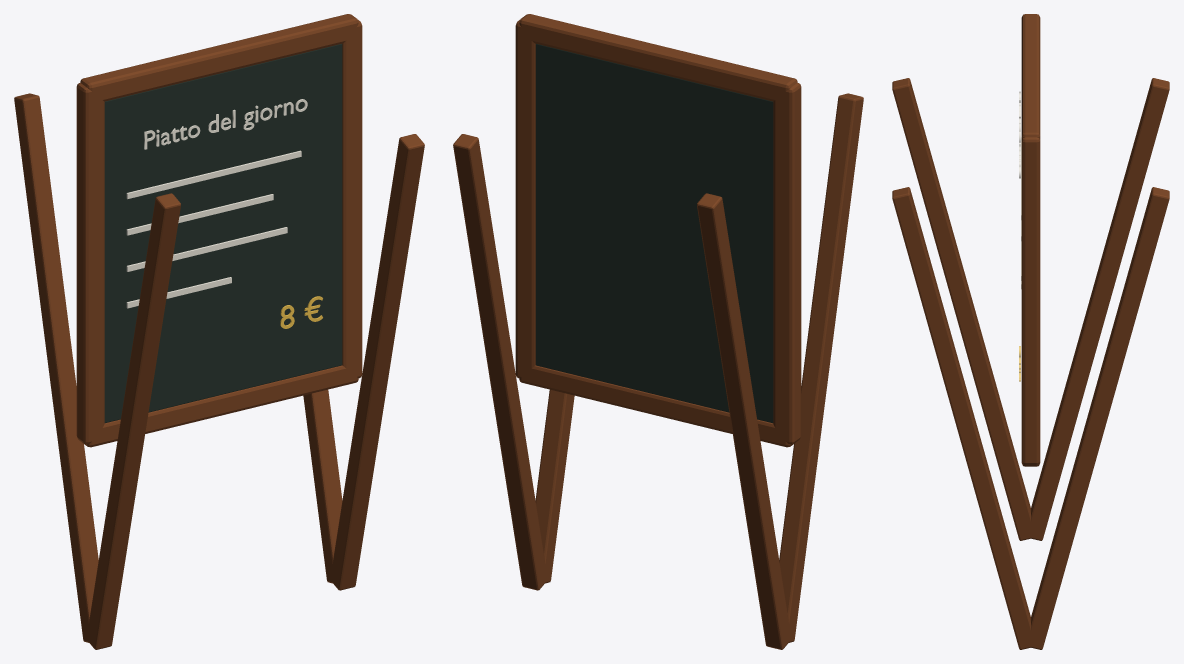
The model's file is lavagna.glb.
The picture shows the model from 3 angles, left to right: view 1: azimuth 30°, elevation 25°; view 2: azimuth 150°, elevation 25°; view 3: azimuth 270°, elevation 25°; orthographic projection. The views are drawn at different scales.
Visible parts, largest first — view 1: Cube, Cube.006, Cube.005, Cube.007, Cube.003, Cube.001, Cube.004, Cube.002, Cube.008, Text, Cube.009, Cube.011 (+1 smaller); view 2: Cube, Cube.005, Cube.006, Cube.008, Cube.003, Cube.001, Cube.004, Cube.002, Cube.007; view 3: Cube.005, Cube.007, Cube.006, Cube.008, Cube.004, Cube.001.
Boxes of the visible parts, <box> form: Cube: <box>104,44,342,423</box>; Cube.006: <box>14,93,98,642</box>; Cube.005: <box>86,193,180,649</box>; Cube.007: <box>332,134,424,590</box>; Cube.003: <box>76,83,104,444</box>; Cube.001: <box>80,14,358,102</box>; Cube.004: <box>342,20,362,378</box>; Cube.002: <box>82,365,358,447</box>; Cube.008: <box>303,389,342,583</box>; Text: <box>144,99,307,149</box>; Cube.009: <box>126,150,301,199</box>; Cube.011: <box>126,227,287,271</box>; Cube: <box>535,44,773,423</box>; Cube.005: <box>779,93,863,642</box>; Cube.006: <box>697,193,791,649</box>; Cube.008: <box>453,134,545,590</box>; Cube.003: <box>773,83,801,444</box>; Cube.001: <box>519,14,797,102</box>; Cube.004: <box>515,20,535,378</box>; Cube.002: <box>519,365,795,447</box>; Cube.007: <box>535,389,574,583</box>; Cube.005: <box>892,78,1034,540</box>; Cube.007: <box>892,187,1034,649</box>; Cube.006: <box>1027,78,1169,540</box>; Cube.008: <box>1027,187,1169,649</box>; Cube.004: <box>1021,137,1040,464</box>; Cube.001: <box>1021,14,1040,138</box>.
Size of the model in its own units: 0.8 by 1.55 by 0.7523.
